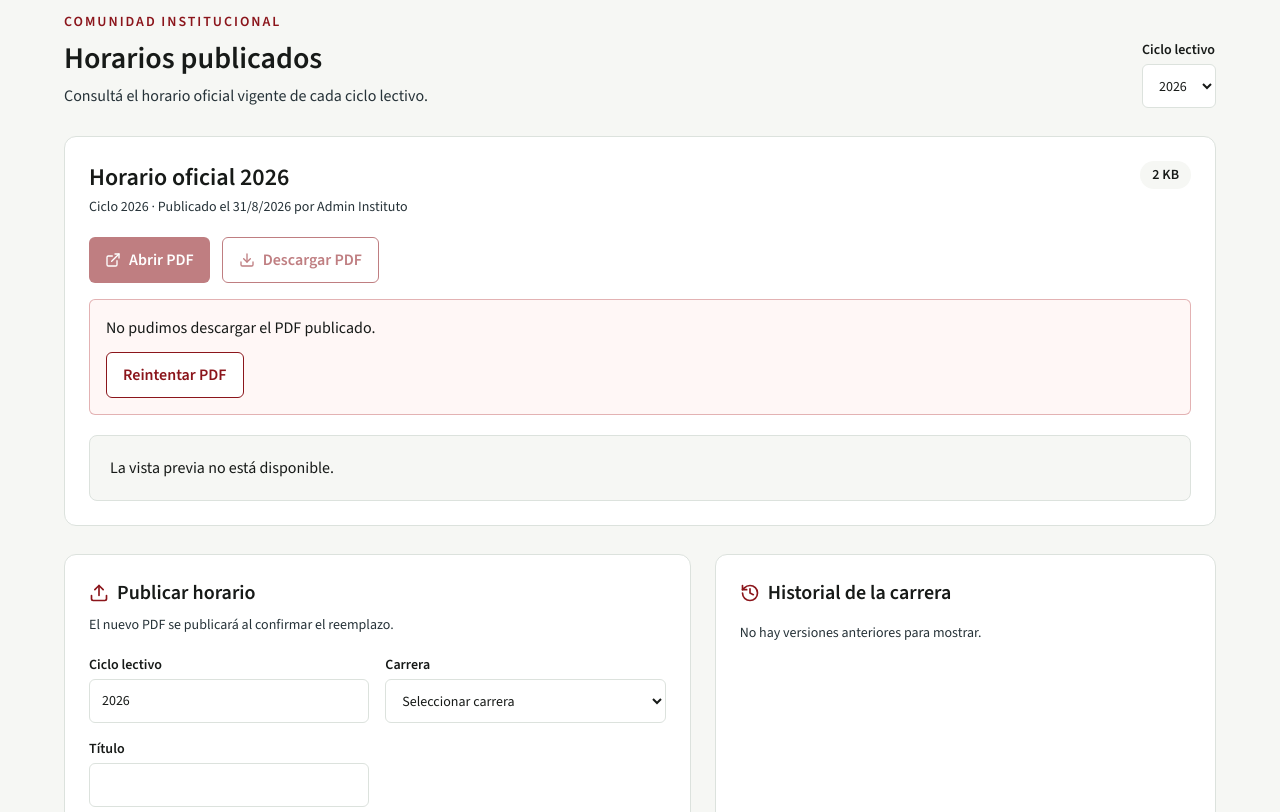
Test case: SchedulesView › keeps a pending administrative history request valid while a PDF retry completes
The width and height of the screenshot is (1280, 812).
Expected: the message shows "No pudimos descargar el PDF publicado.", [106,317,376,338]
Click the button "Reintentar PDF": coordinates (175, 375) [106,352,244,398]
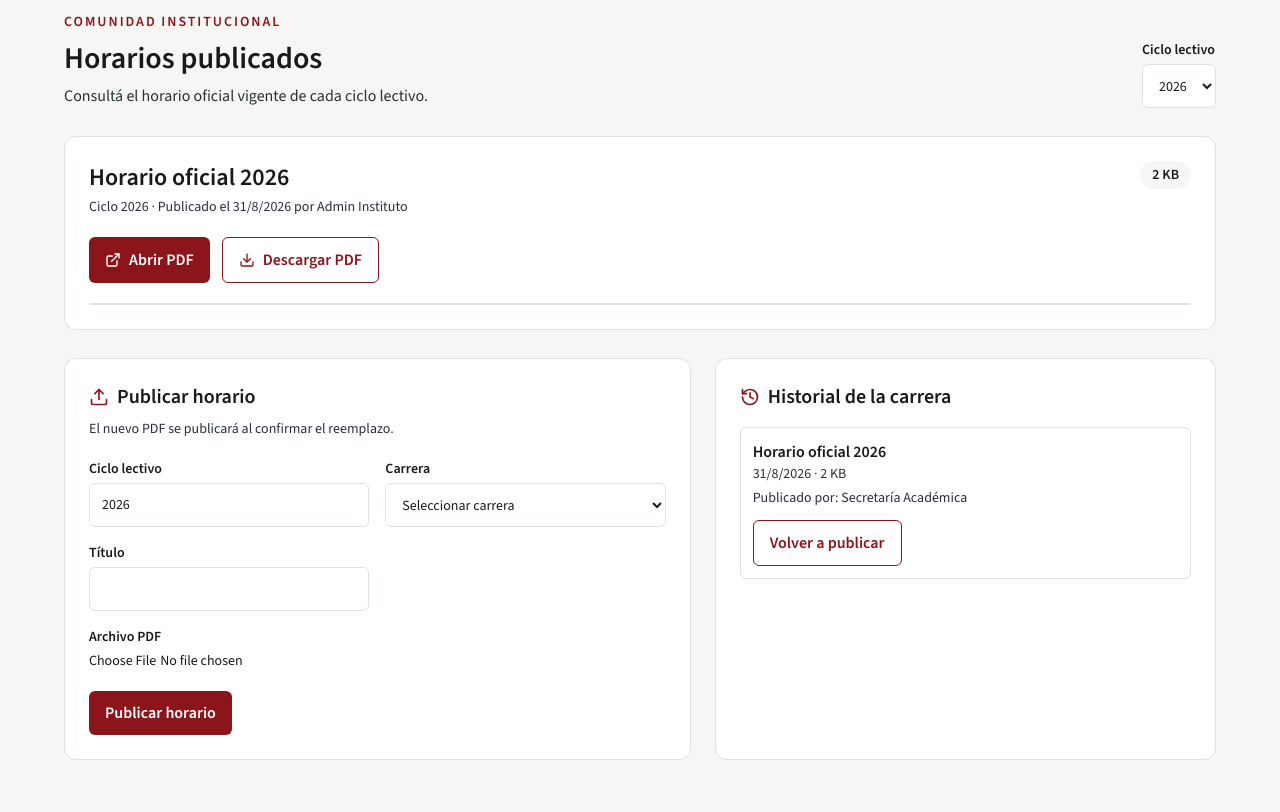
Result: the text "Publicado por: Secretaría Académica" is shown at [753,488,967,507]
